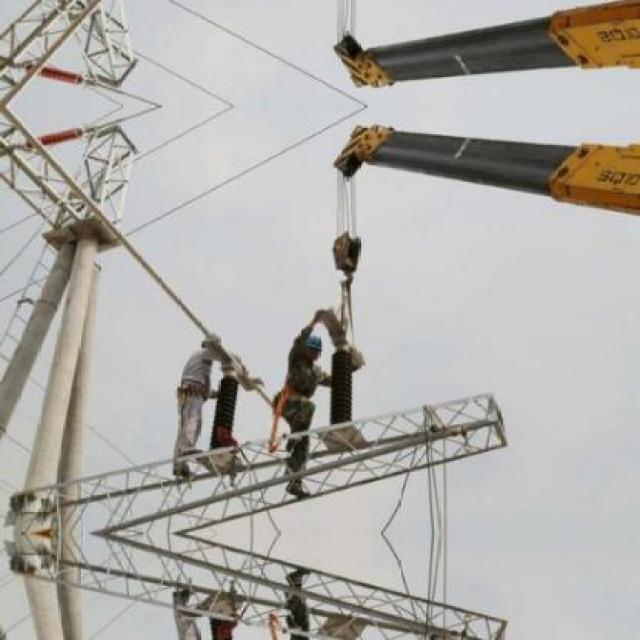helmet: (304, 329, 324, 363)
